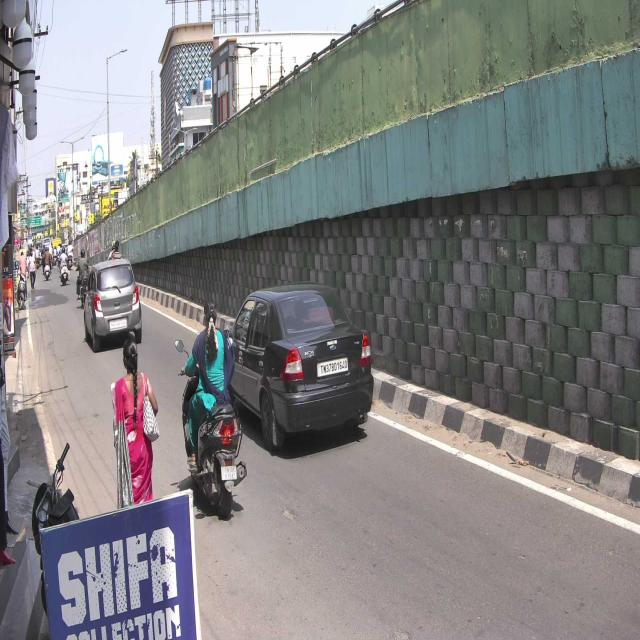single_rider: (177, 298, 249, 521)
